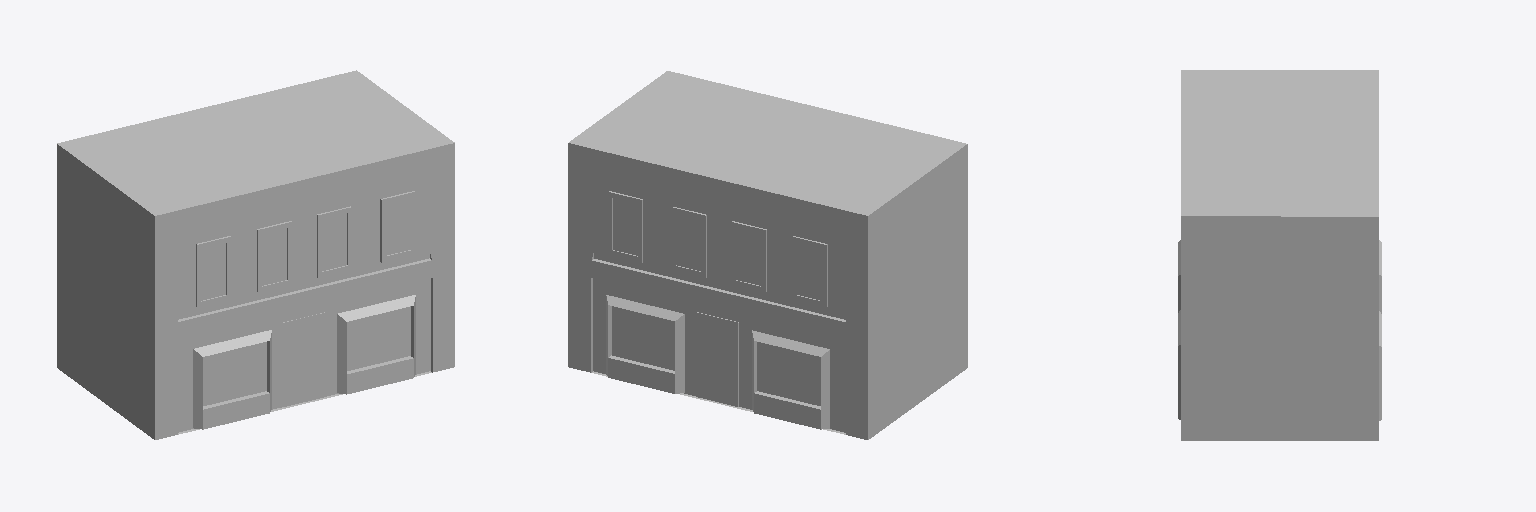
The model's file is building-1.obj.
3 views of the same model, side by side, from view 1: azimuth 30°, elevation 25°; view 2: azimuth 150°, elevation 25°; view 3: azimuth 270°, elevation 25° (orthographic).
Parts seen in each view (by area): view 1: pCube1, pCube15, pCube14, pCube11, pCube9, pCube6, pCube7, pCube8; view 2: pCube1, pCube12, pCube13, pCube10, pCube3, pCube5, pCube2, pCube4; view 3: pCube1.
Boxes of the visible parts, <box> form: pCube1: <box>57,70,454,439</box>; pCube15: <box>337,295,415,394</box>; pCube14: <box>193,330,271,429</box>; pCube11: <box>283,312,324,406</box>; pCube9: <box>380,191,415,262</box>; pCube6: <box>257,221,291,292</box>; pCube7: <box>196,236,230,307</box>; pCube8: <box>317,206,351,277</box>; pCube1: <box>568,71,967,439</box>; pCube12: <box>606,295,684,393</box>; pCube13: <box>752,330,829,429</box>; pCube10: <box>697,312,738,406</box>; pCube3: <box>732,221,766,292</box>; pCube5: <box>608,191,642,262</box>; pCube2: <box>793,236,827,307</box>; pCube4: <box>672,207,706,277</box>; pCube1: <box>1181,70,1378,440</box>.
Bounding box in the file's own units: 14.03 × 10.05 × 8.27.